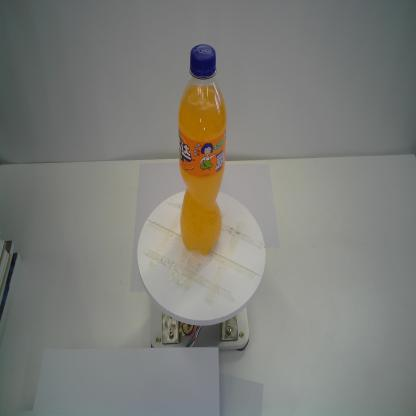Drink: (176, 42, 228, 257)
